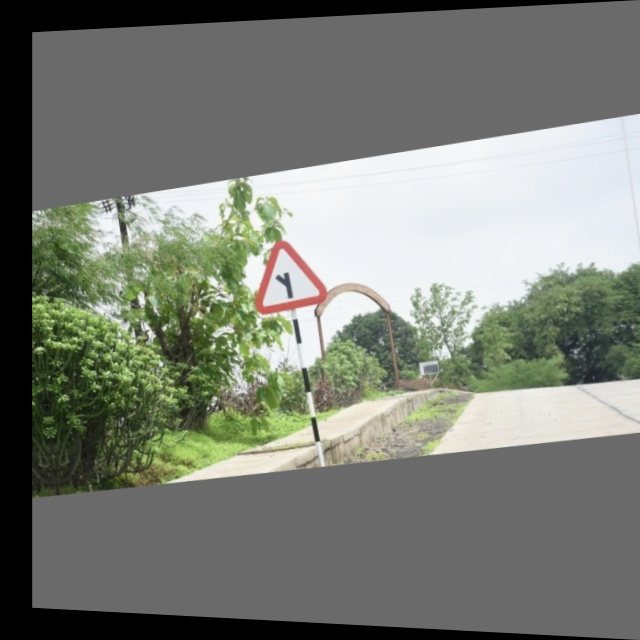Y_Intersection: (246, 224, 328, 317)
